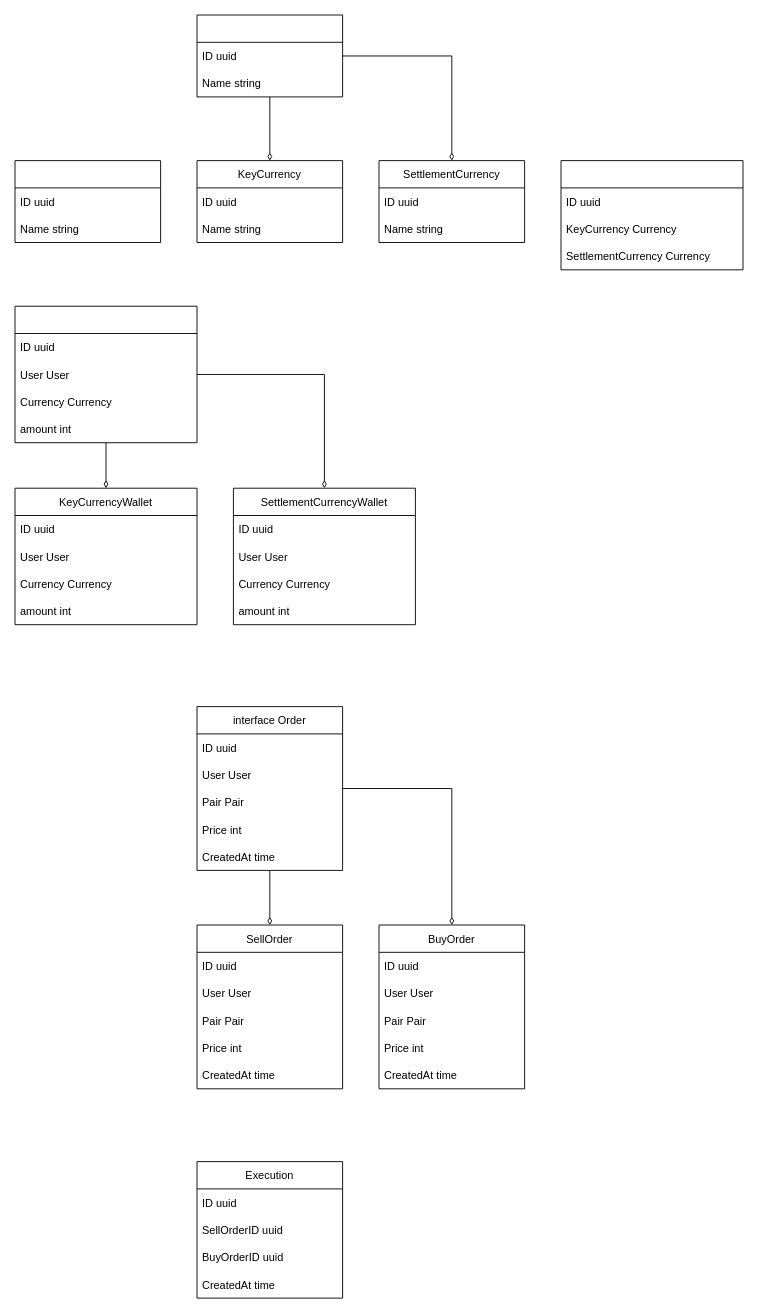
This 758x1313 diagram has some shape labels left out. Each missing label, with the box of its shape:
interface Currency: (196, 14, 343, 97)
interface Wallet: (14, 305, 197, 443)
Pair: (560, 160, 743, 270)
User: (14, 160, 161, 243)
